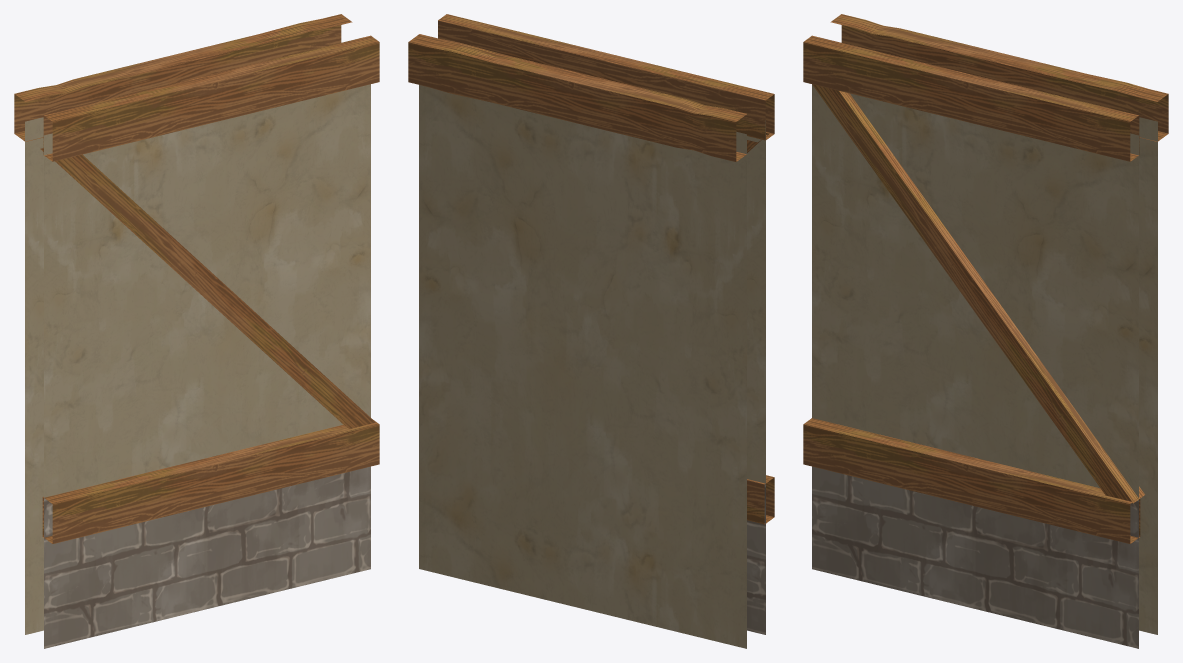
The model's file is Wall_Plaster_Straight_L.gltf.
3 views of the same model, side by side, from view 1: azimuth 30°, elevation 25°; view 2: azimuth 150°, elevation 25°; view 3: azimuth 330°, elevation 25° (orthographic).
Visible parts, largest first — view 1: Wall_Plaster_Straight_L; view 2: Wall_Plaster_Straight_L; view 3: Wall_Plaster_Straight_L.
Boxes of the visible parts, bbox=[...] form: Wall_Plaster_Straight_L: bbox=[14, 14, 379, 648]; Wall_Plaster_Straight_L: bbox=[408, 14, 774, 648]; Wall_Plaster_Straight_L: bbox=[803, 14, 1168, 648].
Bounding box in the file's own units: 2 × 3.12 × 0.4065.
3 materials, 3 textured.
